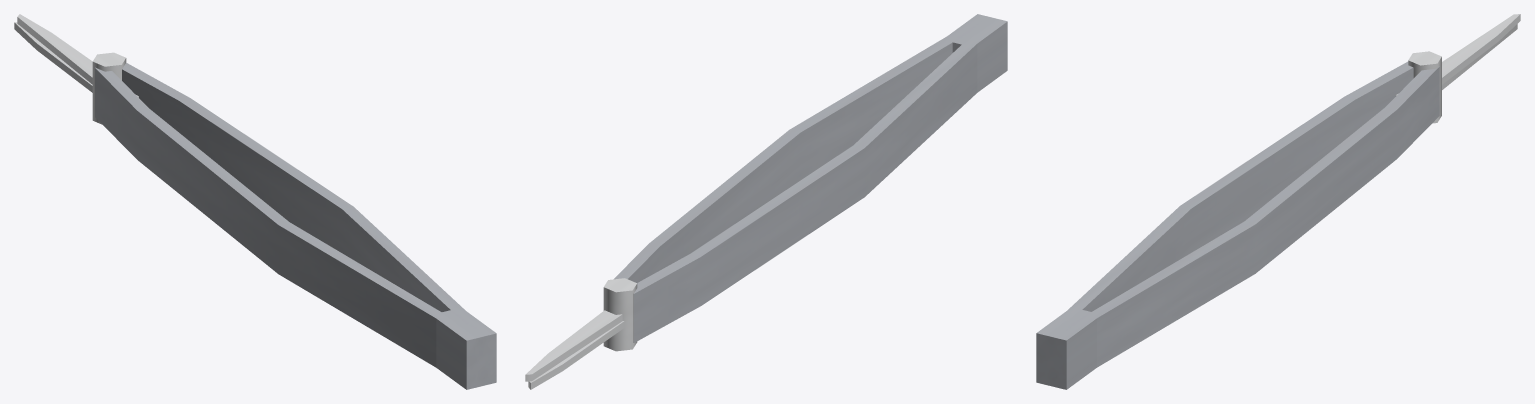
File: vannas_scissors.glb
3 views of the same model, side by side, from view 1: azimuth 30°, elevation 25°; view 2: azimuth 150°, elevation 25°; view 3: azimuth 330°, elevation 25° (orthographic).
Visible parts, largest first — view 1: m2_vannas_scissors; view 2: m2_vannas_scissors; view 3: m2_vannas_scissors.
Part boxes in pixels (x1,y1,x2,y2): m2_vannas_scissors: (14, 14, 496, 389); m2_vannas_scissors: (525, 14, 1007, 389); m2_vannas_scissors: (1036, 14, 1520, 389).
Bounding box in the file's own units: 0.008 × 0.006 × 0.0855.
1 material, 1 textured.
